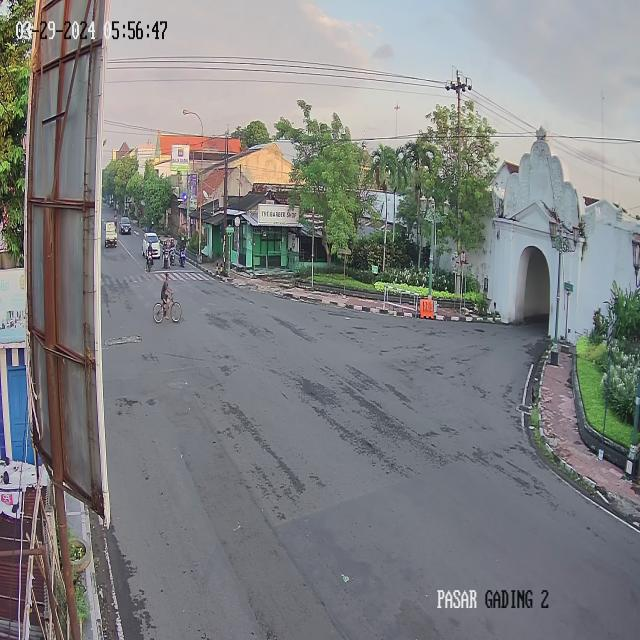car: (142, 232, 161, 260), (120, 217, 130, 235)
motorcycle: (146, 240, 155, 274), (162, 238, 168, 268), (180, 238, 186, 268), (169, 237, 175, 263), (114, 212, 118, 225)
truck: (104, 221, 119, 249)
